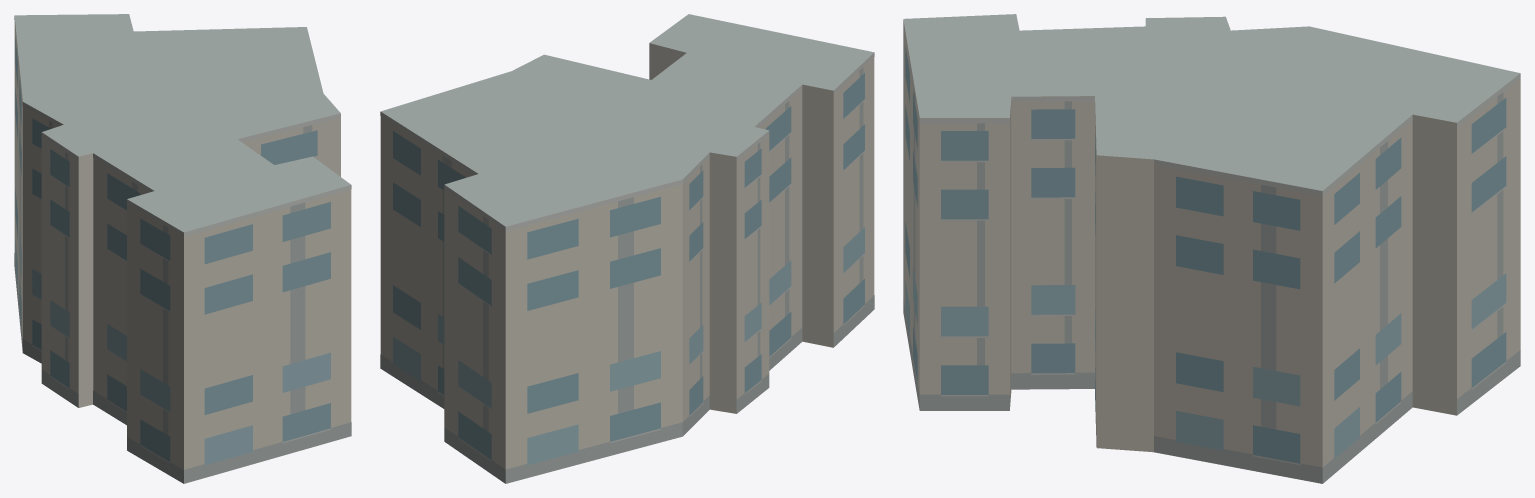
Rendered from survey-upis-32830385.glb.
The picture shows the model from 3 angles, left to right: view 1: azimuth 30°, elevation 25°; view 2: azimuth 150°, elevation 25°; view 3: azimuth 270°, elevation 25°; orthographic projection. The views are drawn at different scales.
Parts seen in each view (by area): view 1: survey-upis-32830385.tmp; view 2: survey-upis-32830385.tmp; view 3: survey-upis-32830385.tmp.
Boxes of the visible parts, bbox=[...] form: survey-upis-32830385.tmp: bbox=[14, 14, 351, 483]; survey-upis-32830385.tmp: bbox=[380, 14, 874, 483]; survey-upis-32830385.tmp: bbox=[903, 14, 1520, 483].
Bounding box in the file's own units: 17.9 × 13.8 × 26.38.
